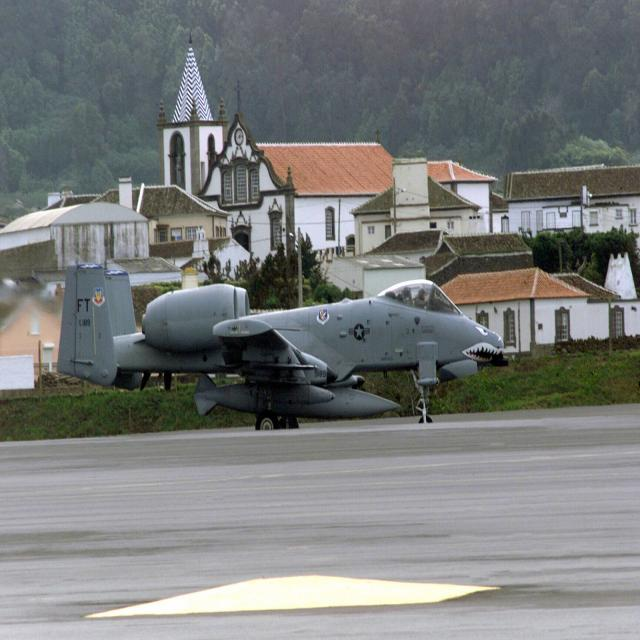MIL_Plane: (56, 263, 509, 431)
